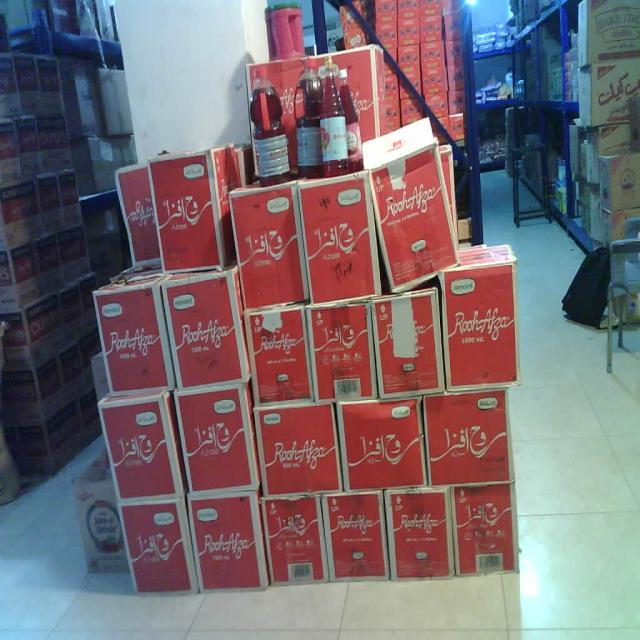cardboxes: (369, 154, 457, 288), (442, 261, 518, 390), (232, 189, 312, 308), (298, 184, 381, 298), (161, 276, 247, 386), (424, 386, 513, 488), (173, 386, 257, 491), (146, 160, 226, 270), (92, 286, 173, 394), (338, 398, 430, 493), (96, 402, 182, 502), (255, 402, 342, 494), (306, 298, 381, 404), (188, 491, 266, 592), (117, 499, 199, 591), (372, 296, 445, 394), (246, 308, 316, 408), (262, 486, 330, 586), (384, 488, 456, 580), (323, 492, 390, 581), (452, 485, 516, 578)
